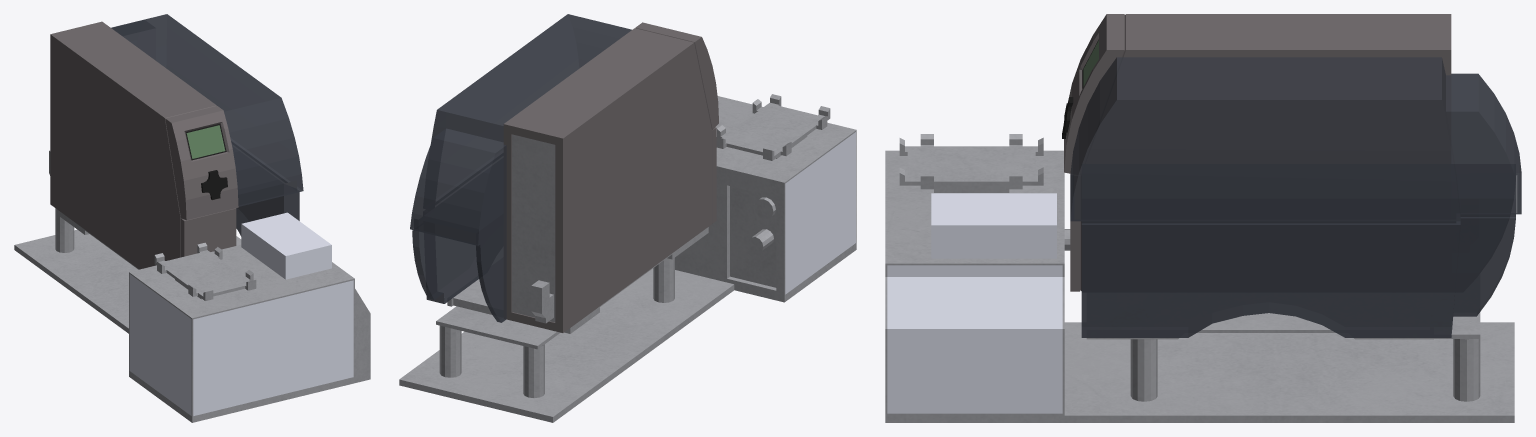
3 renders of one model, left to right at view 1: azimuth 30°, elevation 25°; view 2: azimuth 150°, elevation 25°; view 3: azimuth 270°, elevation 25°, orthographic. The views are drawn at different scales.
Visible parts, largest first — view 1: 084; view 2: 084; view 3: 084.
Boxes of the visible parts, x1=… form: 084: x1=14, y1=14, x2=370, y2=422; 084: x1=399, y1=14, x2=856, y2=422; 084: x1=885, y1=14, x2=1521, y2=422.
Size of the model in its own units: 71.18 by 87.3 by 155.
Materials: 6 (1 with a texture image).
